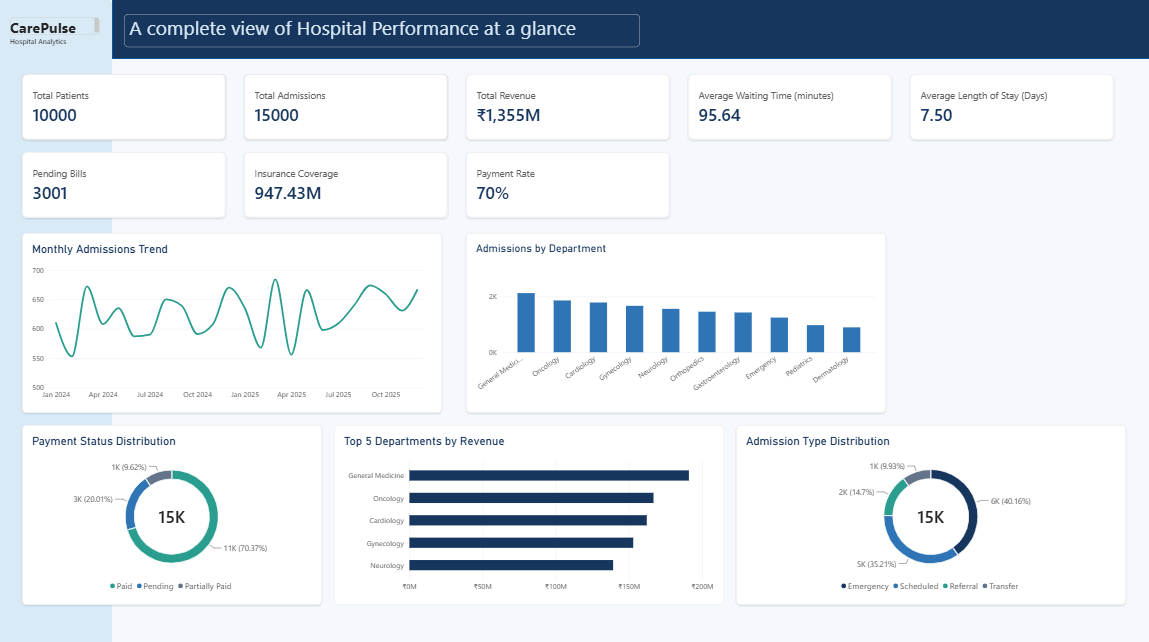

This screenshot's page, from the dashboard's own definition file:
{"tool":"powerbi","page":{"name":"Page 1","canvas":[1920,1080],"ordinal":0},"visuals":[{"type":"shape","box":[0,0,190,1080],"z":0},{"type":"cardVisual","fields":{"Data":["admissions_cleaned.Total Patients"]},"box":[40,125,340,110],"z":1000},{"type":"cardVisual","fields":{"Data":["admissions_cleaned.Total Admissions"]},"box":[410,125,340,110],"z":2000},{"type":"cardVisual","fields":{"Data":["admissions_cleaned.Total Revenue"]},"box":[780,125,340,110],"z":3000},{"type":"cardVisual","fields":{"Data":["admissions_cleaned.Average Waiting Time"]},"box":[1150,125,340,110],"z":4000},{"type":"cardVisual","fields":{"Data":["admissions_cleaned.Average Length of Stay"]},"box":[1520,125,340,110],"z":5000},{"type":"cardVisual","fields":{"Data":["admissions_cleaned.Pending Bills"]},"box":[40,255,340,110],"z":6000},{"type":"cardVisual","fields":{"Data":["admissions_cleaned.Insurance Coverage"]},"box":[410,255,340,110],"z":7000},{"type":"cardVisual","fields":{"Data":["admissions_cleaned.Payment Rate"]},"box":[780,255,340,110],"z":8000},{"type":"lineChart","title":"Monthly Admissions Trend","fields":{"Category":["admissions_cleaned.admission_date.Variation.Date Hierarchy.Year","admissions_cleaned.admission_date.Variation.Date Hierarchy.Month"],"Y":["admissions_cleaned.Total Admissions"]},"box":[40,390,700,300],"z":9000},{"type":"shape","box":[190,0,1730,100],"z":10000},{"type":"clusteredColumnChart","title":"Admissions by Department","fields":{"Category":["departments.department_name"],"Y":["admissions_cleaned.Total Admissions"]},"box":[780,390,700,300],"z":11000},{"type":"donutChart","title":"Payment Status Distribution","fields":{"Category":["billing.payment_status"],"Y":["doctors.Total Bills"]},"box":[40,710,500,300],"z":12000},{"type":"clusteredBarChart","title":"Top 5 Departments by Revenue","fields":{"Category":["departments.department_name"],"Y":["admissions_cleaned.Total Revenue"]},"box":[560,710,650,300],"z":13000},{"type":"donutChart","title":"Admission Type Distribution","fields":{"Category":["admissions_cleaned.admission_type"],"Y":["admissions_cleaned.Total Admissions"]},"box":[1230,710,650,300],"z":14000},{"type":"textbox","box":[210,25,860,55],"z":16000},{"type":"textbox","box":[20,30,150,30],"z":17000},{"type":"textbox","box":[20,60,150,20],"z":18000}]}

Visuals, with their boxes in screenshot pixels (x1, y1, x2, y2), scaled from the page's 1920x1080 canvas onto the 1149x642 screenshot:
shape: {"x1": 0, "y1": 0, "x2": 114, "y2": 641}
cardVisual - admissions_cleaned.Total Patients: {"x1": 24, "y1": 74, "x2": 227, "y2": 140}
cardVisual - admissions_cleaned.Total Admissions: {"x1": 245, "y1": 74, "x2": 449, "y2": 140}
cardVisual - admissions_cleaned.Total Revenue: {"x1": 467, "y1": 74, "x2": 670, "y2": 140}
cardVisual - admissions_cleaned.Average Waiting Time: {"x1": 688, "y1": 74, "x2": 892, "y2": 140}
cardVisual - admissions_cleaned.Average Length of Stay: {"x1": 910, "y1": 74, "x2": 1113, "y2": 140}
cardVisual - admissions_cleaned.Pending Bills: {"x1": 24, "y1": 152, "x2": 227, "y2": 217}
cardVisual - admissions_cleaned.Insurance Coverage: {"x1": 245, "y1": 152, "x2": 449, "y2": 217}
cardVisual - admissions_cleaned.Payment Rate: {"x1": 467, "y1": 152, "x2": 670, "y2": 217}
"Monthly Admissions Trend" lineChart: {"x1": 24, "y1": 232, "x2": 443, "y2": 410}
shape: {"x1": 114, "y1": 0, "x2": 1148, "y2": 59}
"Admissions by Department" clusteredColumnChart: {"x1": 467, "y1": 232, "x2": 886, "y2": 410}
"Payment Status Distribution" donutChart: {"x1": 24, "y1": 422, "x2": 323, "y2": 600}
"Top 5 Departments by Revenue" clusteredBarChart: {"x1": 335, "y1": 422, "x2": 724, "y2": 600}
"Admission Type Distribution" donutChart: {"x1": 736, "y1": 422, "x2": 1125, "y2": 600}
textbox: {"x1": 126, "y1": 15, "x2": 640, "y2": 48}
textbox: {"x1": 12, "y1": 18, "x2": 102, "y2": 36}
textbox: {"x1": 12, "y1": 36, "x2": 102, "y2": 48}
